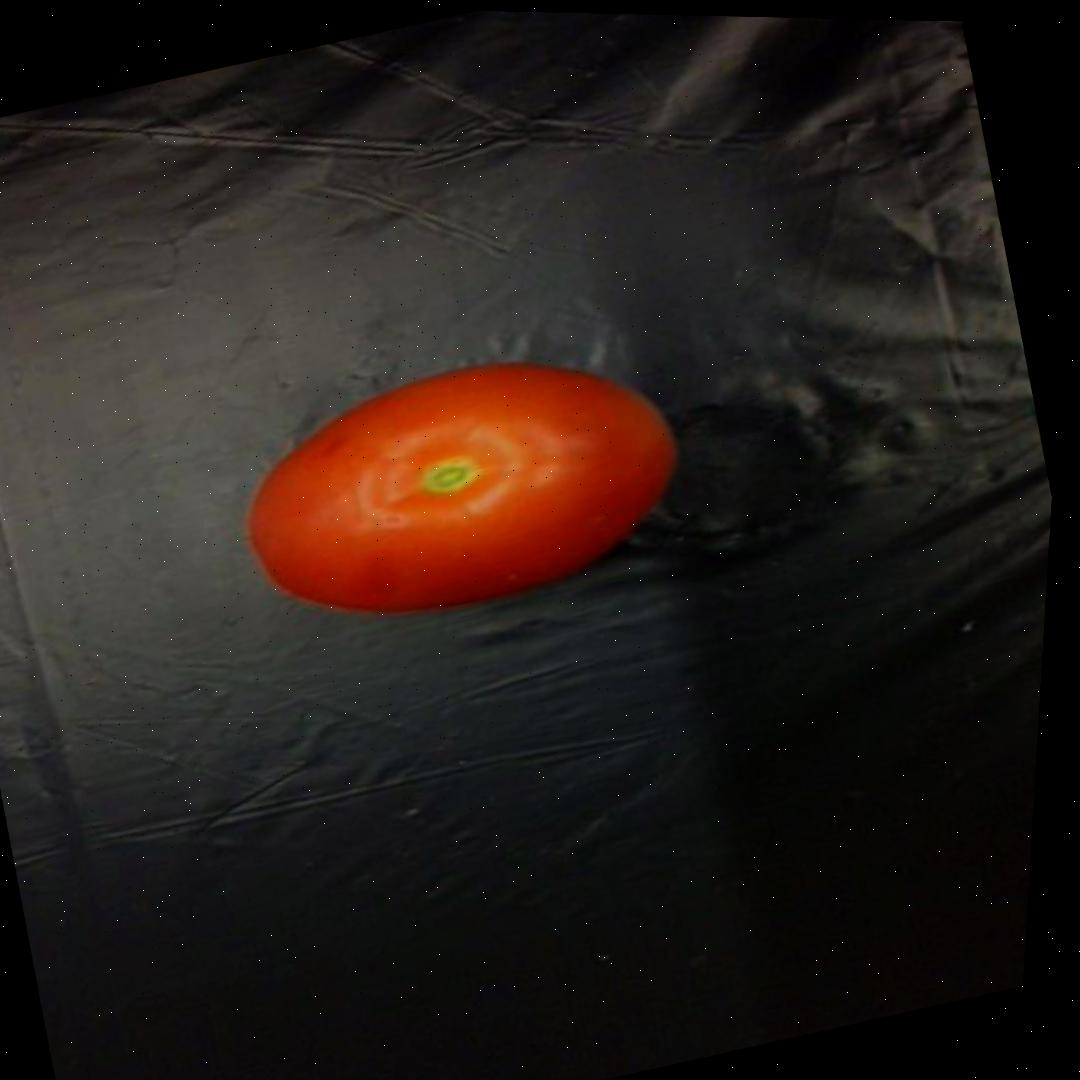matang: (211, 313, 713, 657)
